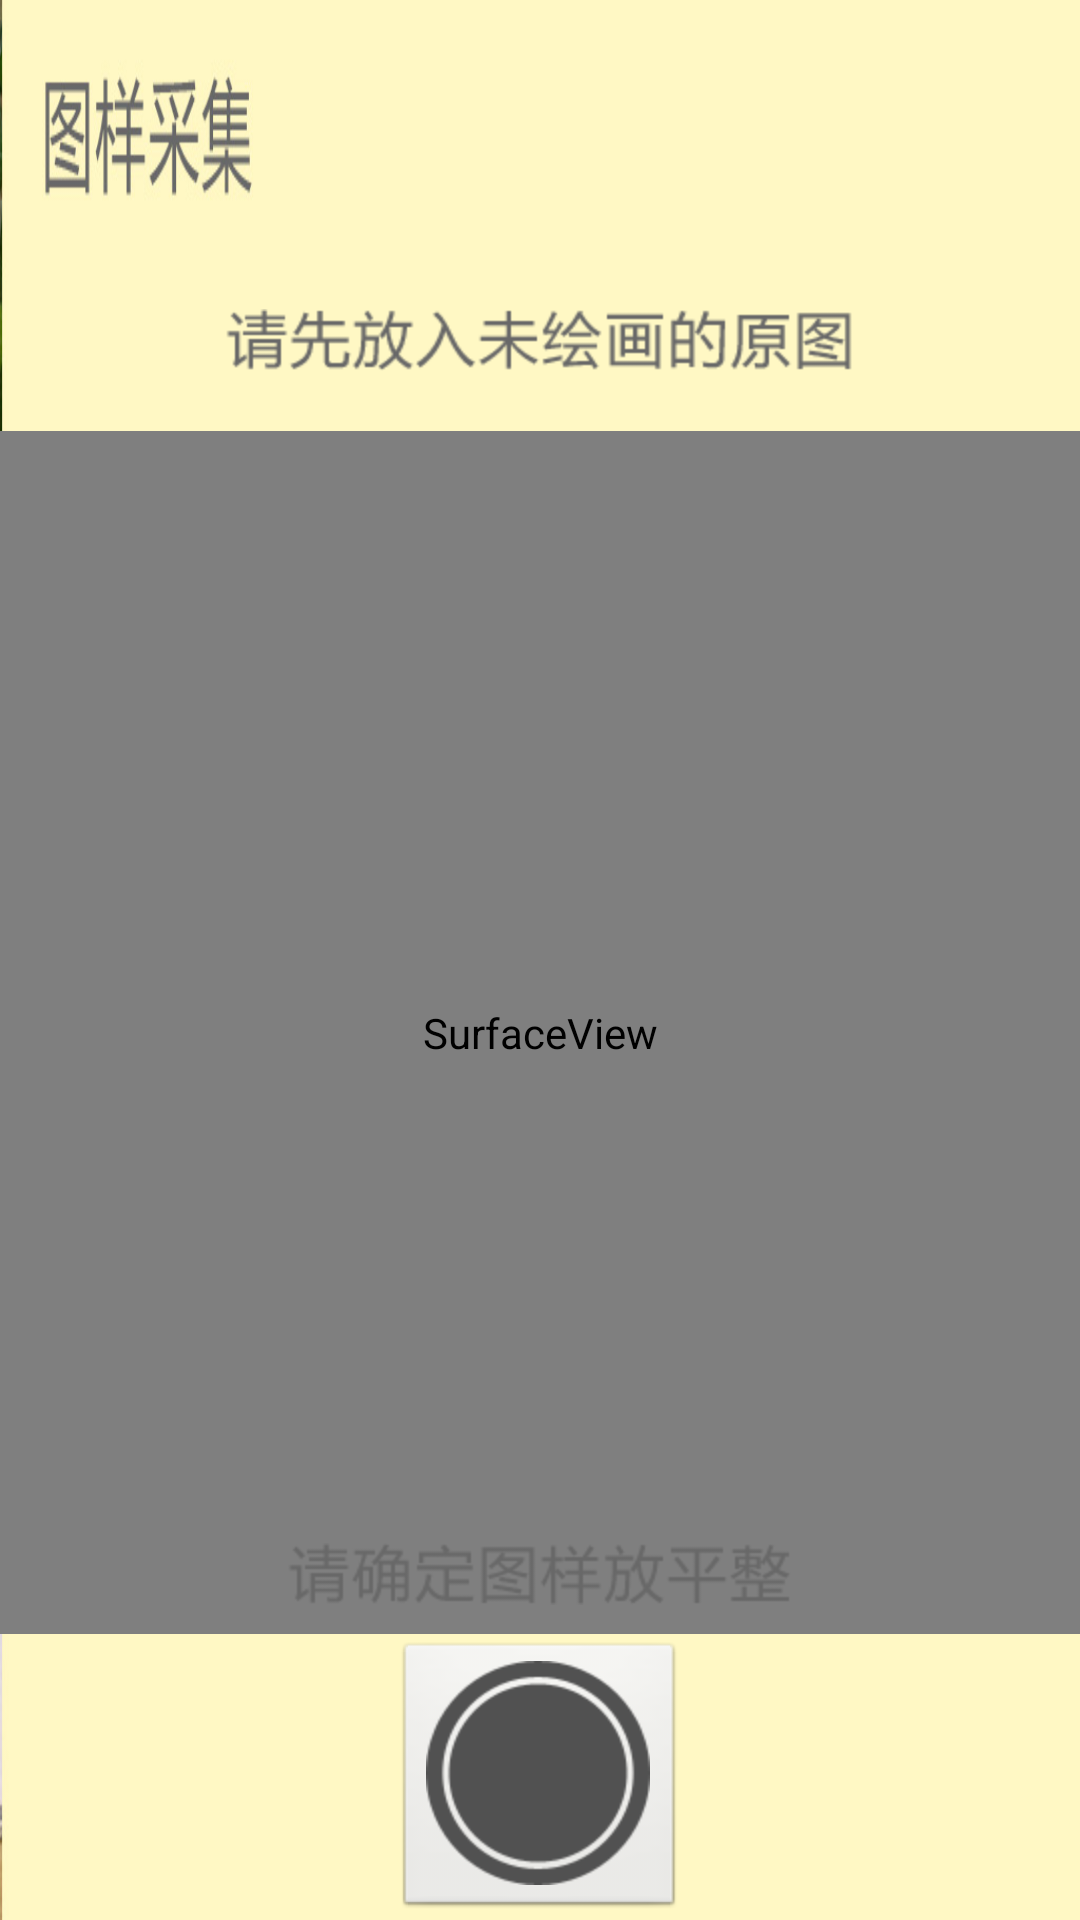

Screen size 1080w x 1920h. Icon name, then its box in pixels as (x1=x1, y1=y1, x2=x2, y2=y2):
setbutton: (x1=403, y1=1645, x2=675, y2=1906)
